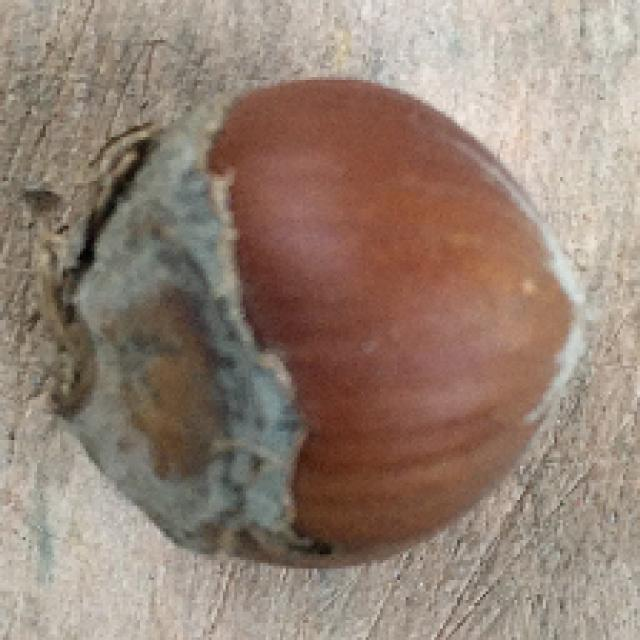damagedHazelnut: (48, 80, 586, 574)
